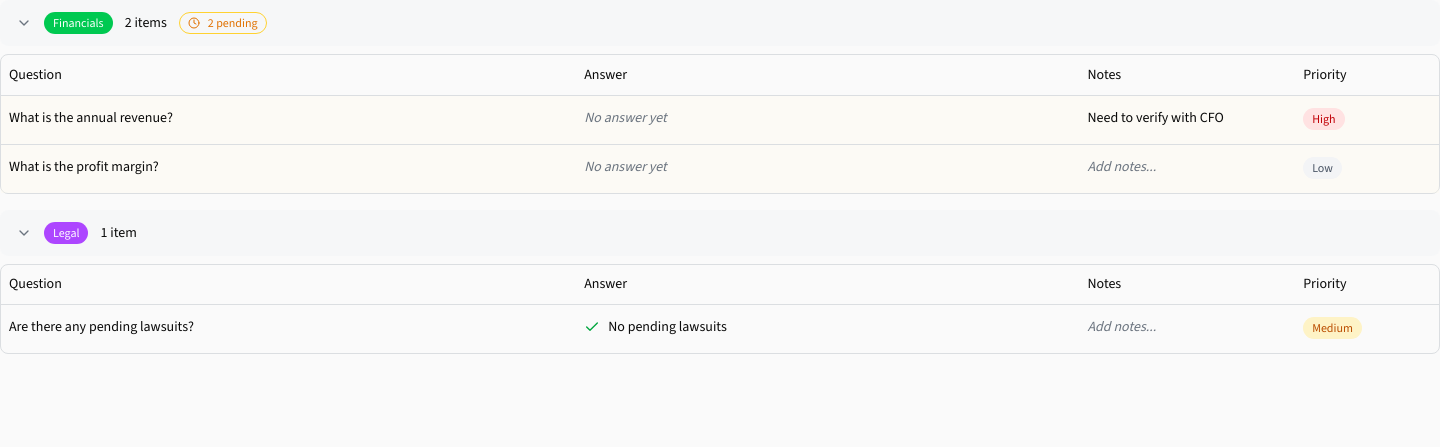
Test case: QATable › inline editing (AC3) › should enter edit mode when answer cell is clicked
This screenshot has width=1440, height=447.
Click the text "No answer yet" in the row of "What is the annual revenue?": (626, 118) [584, 108, 667, 128]
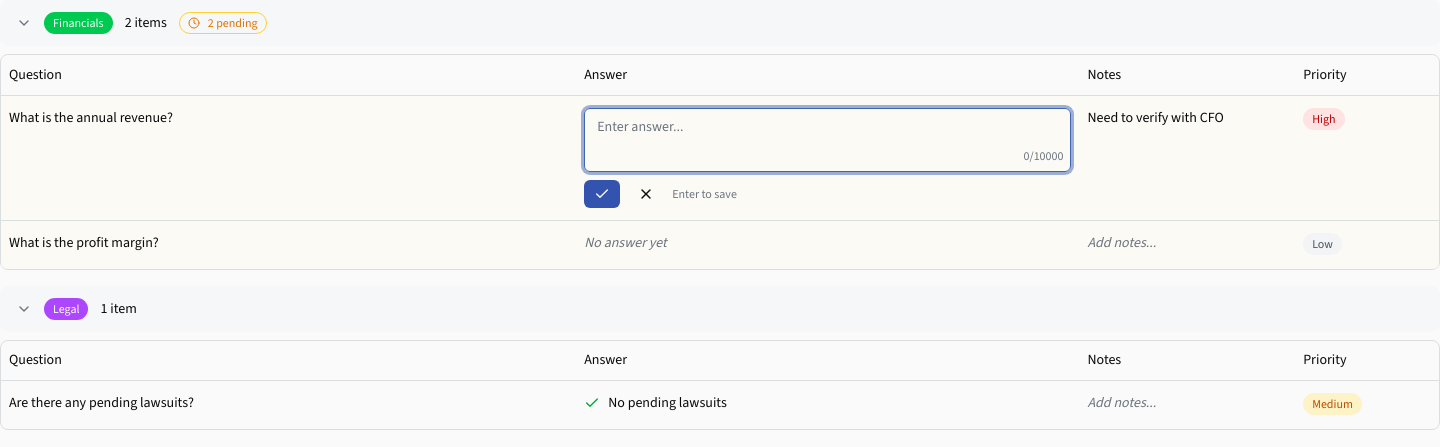
Check: the text box is shown, box [584, 108, 1072, 172]
